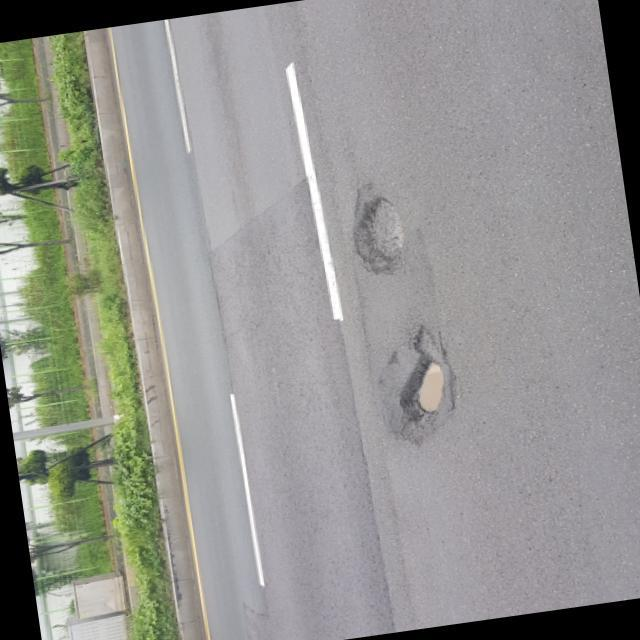pothole: (354, 328, 485, 430), (330, 178, 430, 280)
